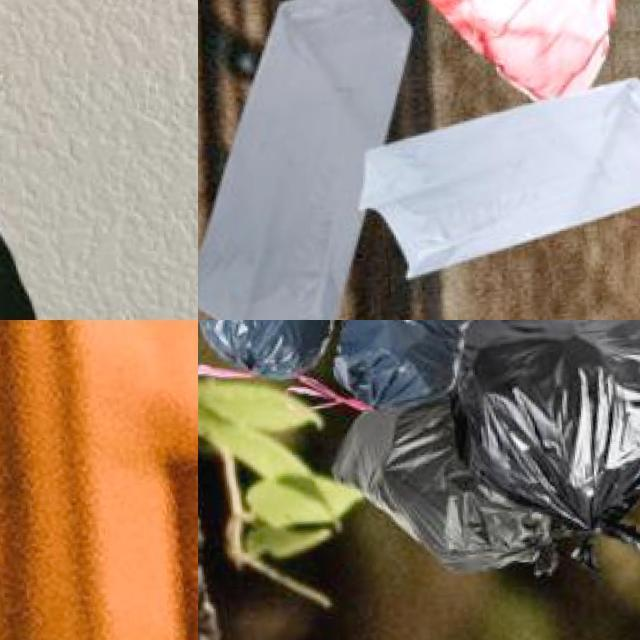waste: (198, 0, 435, 320), (365, 72, 640, 257), (333, 393, 564, 580), (460, 320, 640, 540), (347, 320, 481, 400), (198, 320, 360, 385)
